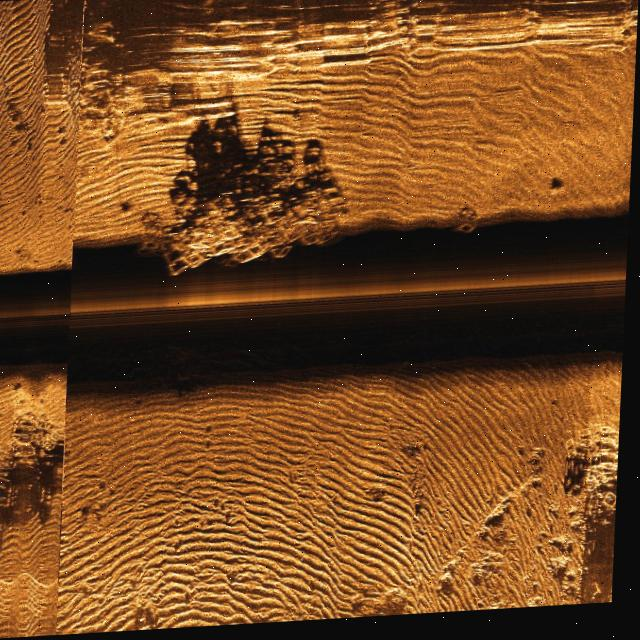artificial reef: (132, 172, 365, 290), (427, 214, 492, 255)
